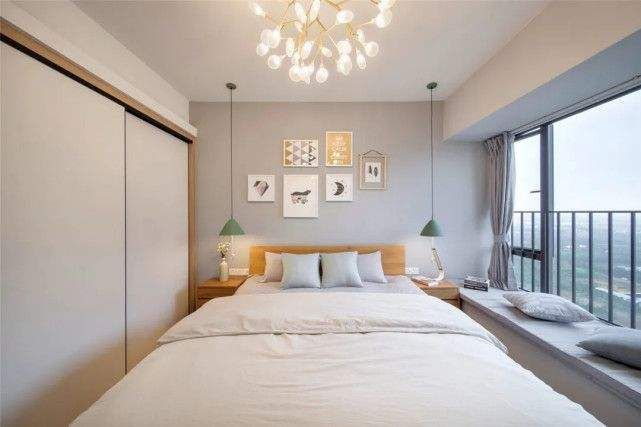床: (59, 277, 614, 426)
枕头: (258, 249, 395, 295), (498, 294, 597, 325), (584, 327, 641, 371)
灯: (251, 0, 396, 87), (214, 82, 244, 242), (426, 82, 443, 246)
